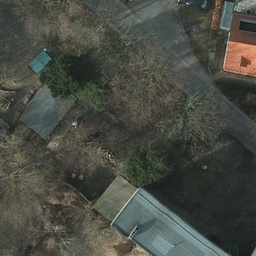car: (178, 0, 212, 16)
